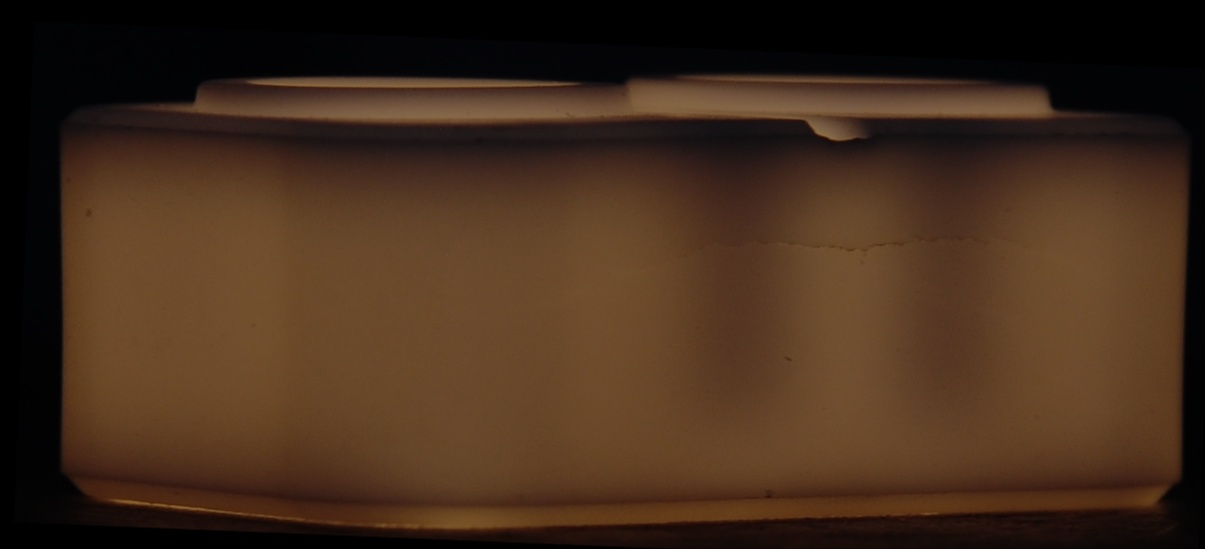flaw: (530, 221, 1085, 302)
macula: (778, 342, 801, 373)
